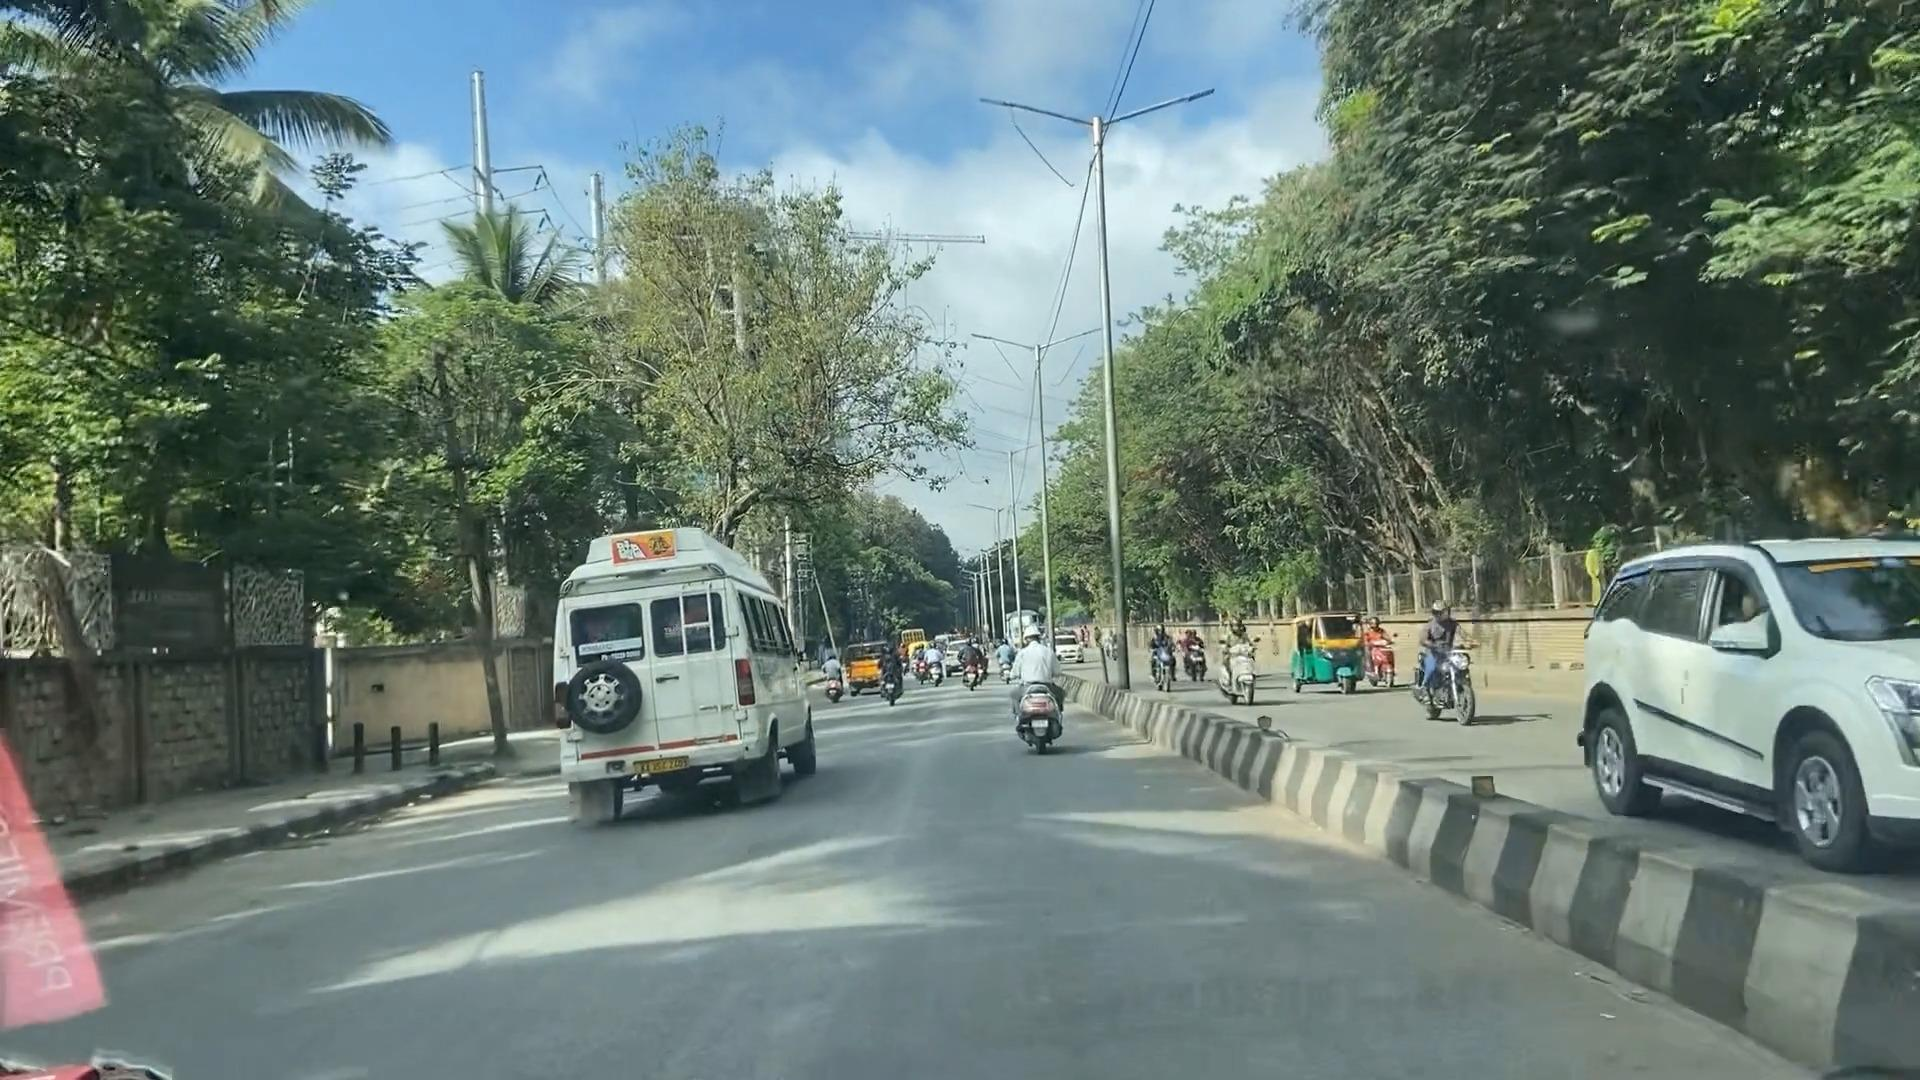HMV: (518, 498, 827, 815)
LMV: (1023, 611, 1087, 770)
